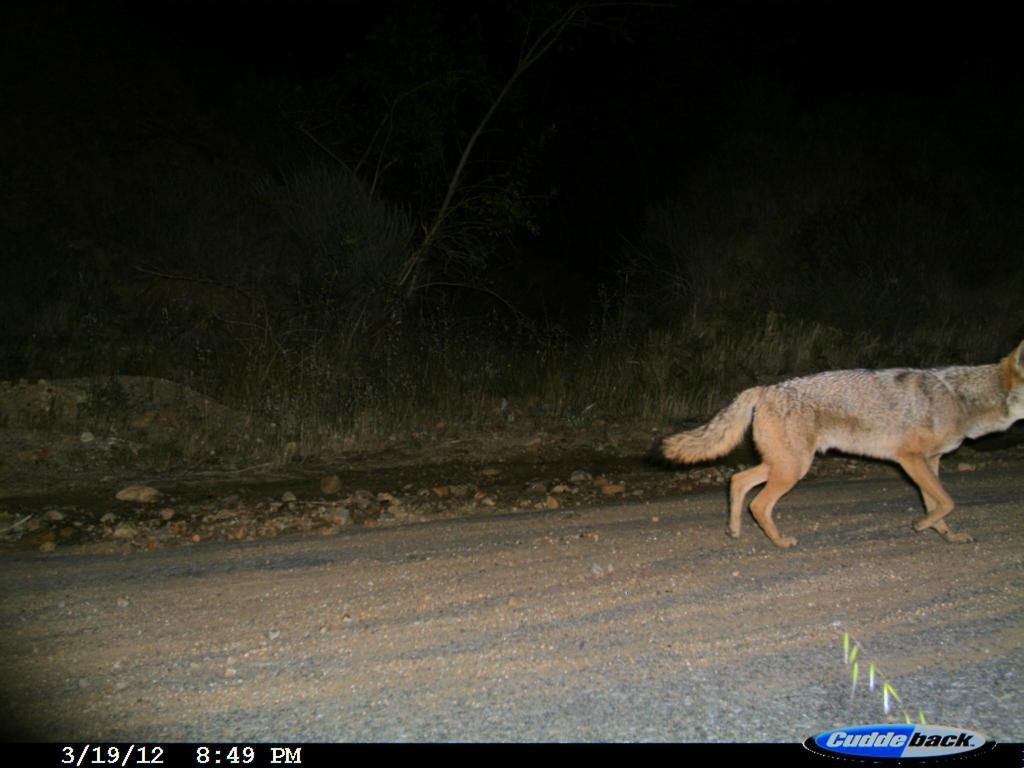coyote: (656, 332, 1022, 555)
